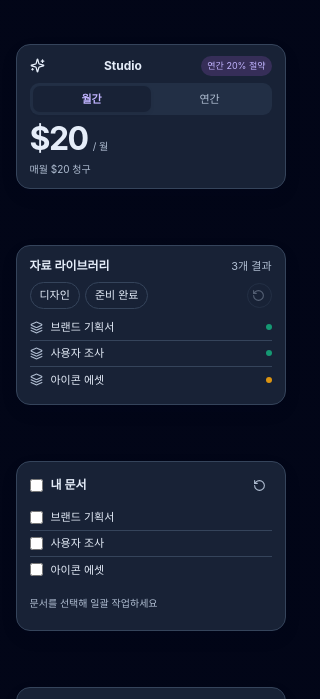
Test: switching language preserves each workflow state and translates its dynamic feedback
Click the button "연간" at (210, 99), box [150,86,268,112]
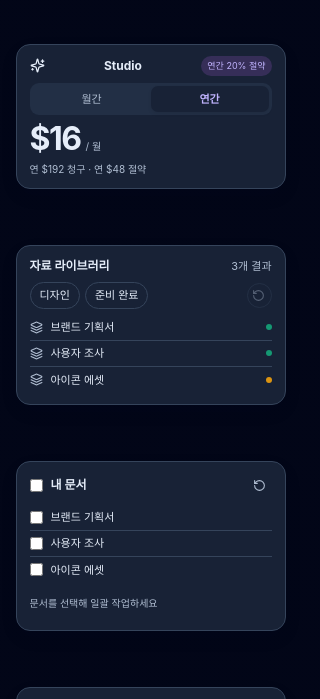
Click the button "디자인" at (55, 296), box [30,282,80,309]
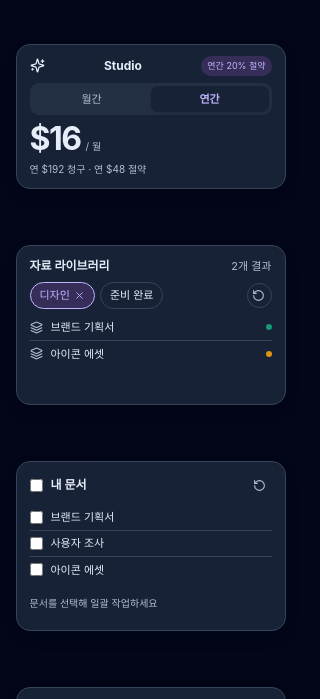
Click the checkbox labelled "브랜드 기획서" at (36, 517), box [30,511,42,524]
(page scrolled)
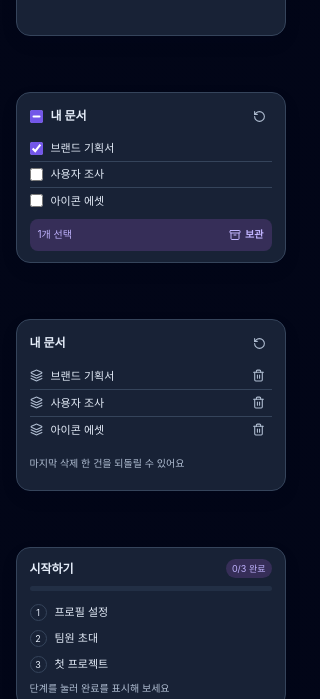
Click the button named "사용자 조사 삭제" at (258, 403), box [246,390,272,416]
(page scrolled)
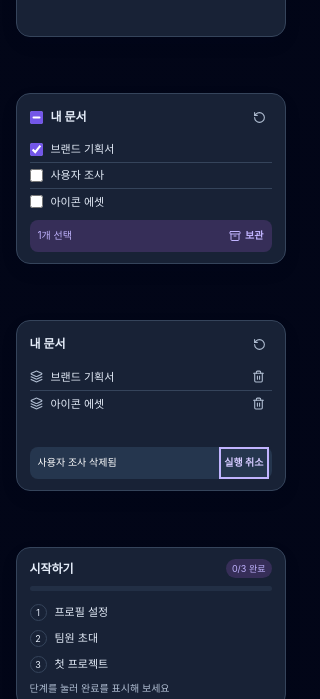
Click the button "3 첫 프로젝트" at (150, 664), box [30,651,272,677]
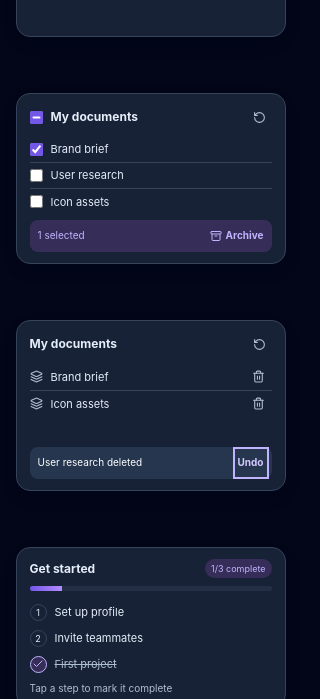
Result: the text "1 selected" is shown at [38,228,85,243]
Result: the text "User research deleted" is shown at [38,455,142,470]
Result: the text "1/3 complete" is shown at [205,559,272,578]
